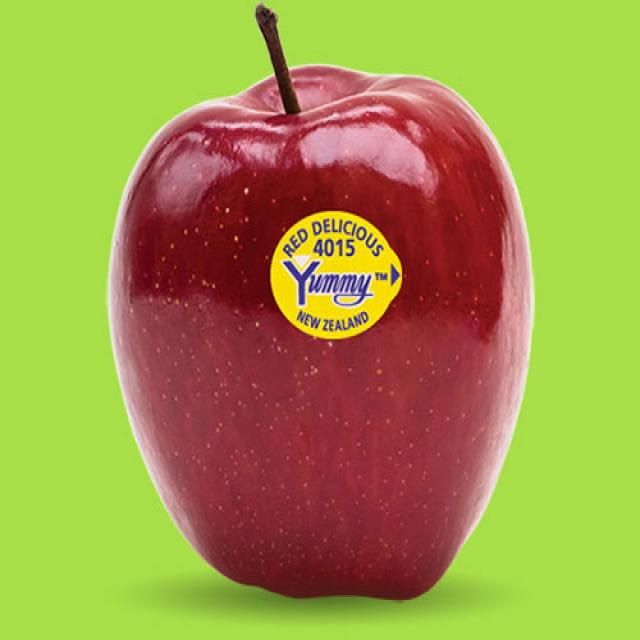apple: (110, 1, 537, 606)
